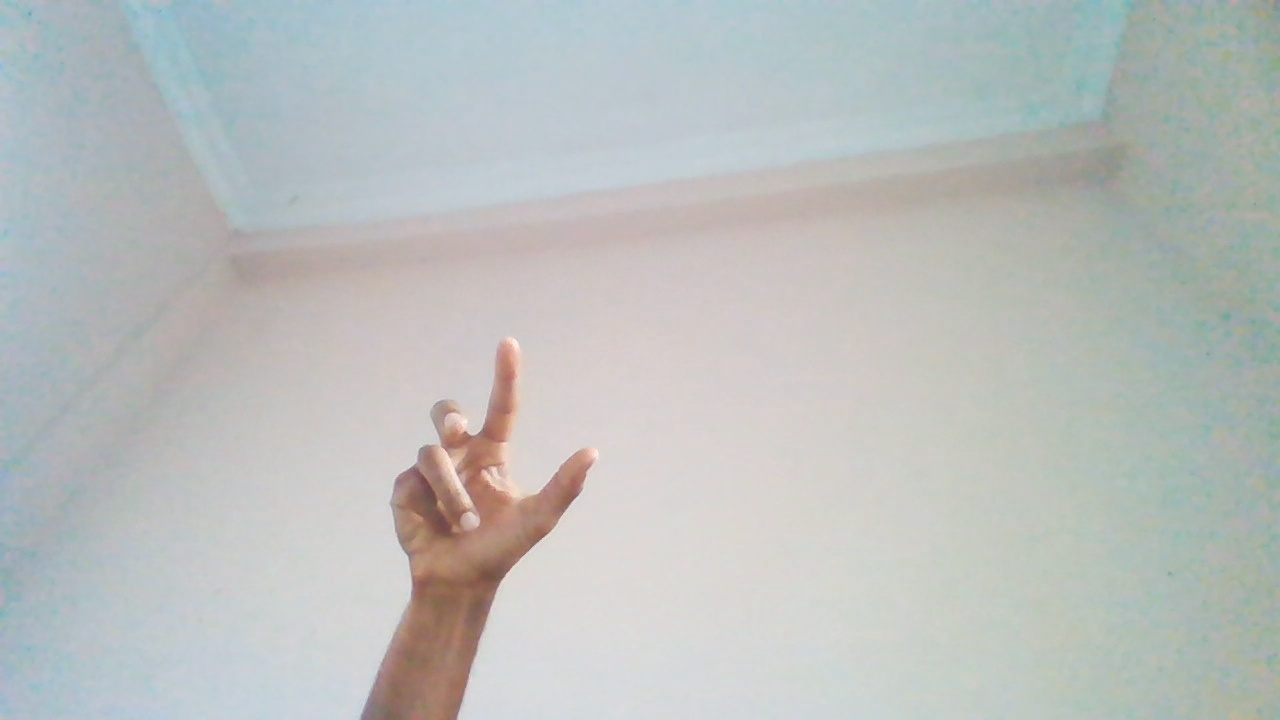hhe: (385, 340, 607, 689)
